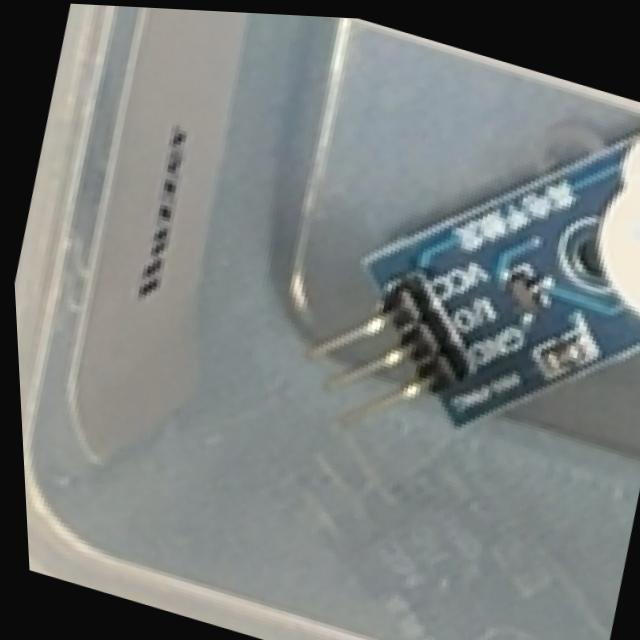Buzzer: (272, 17, 640, 519)
